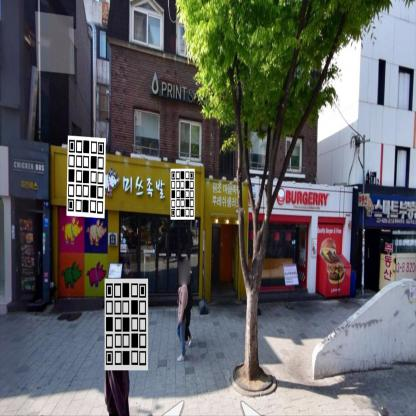qncode: (98, 268, 154, 380), (62, 122, 113, 230), (165, 160, 201, 227)
